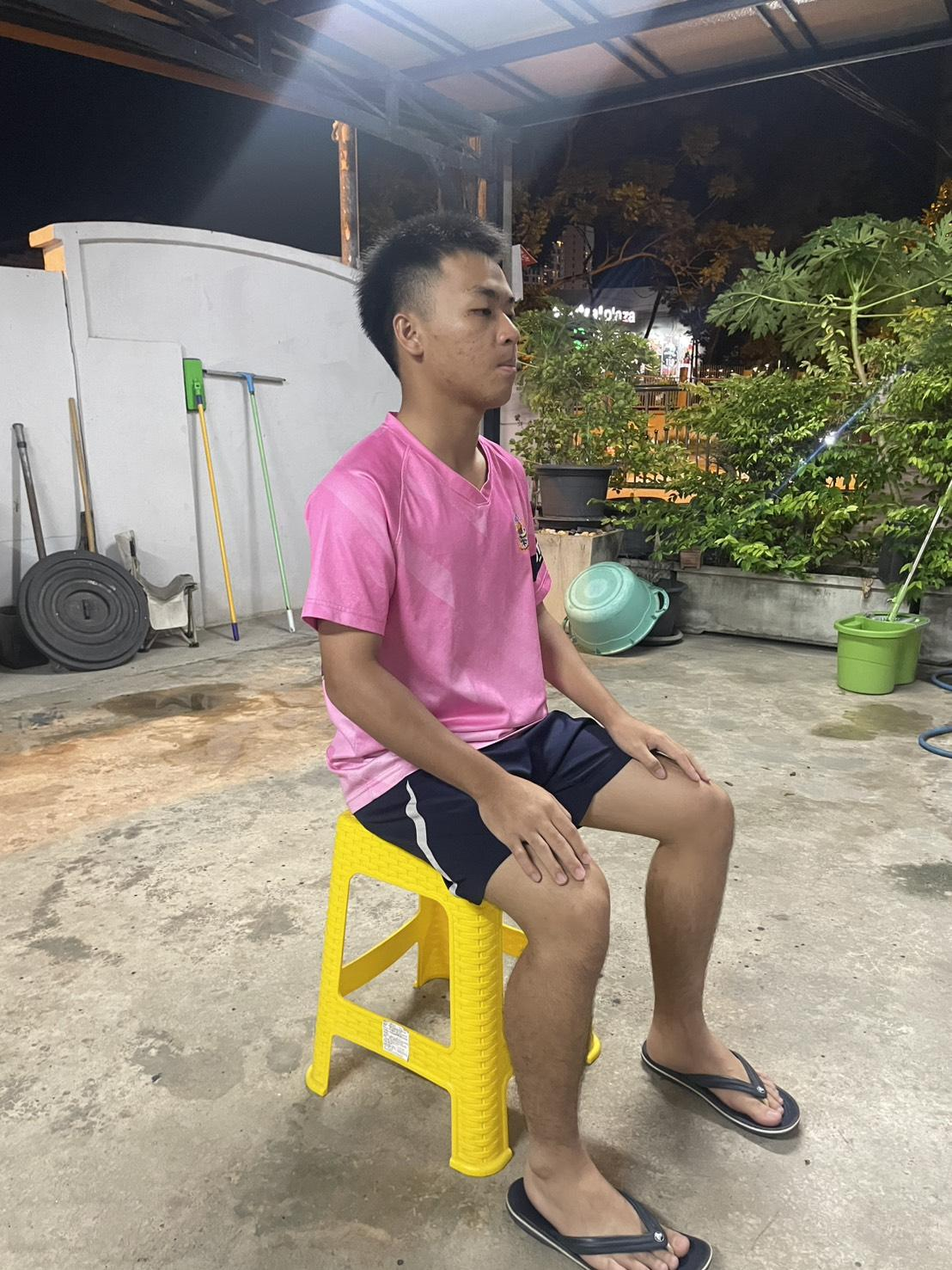GoodPosture: (302, 213, 798, 1269), (302, 213, 573, 809)
